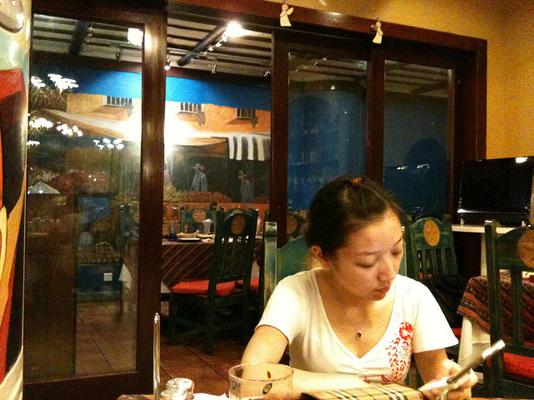person: (242, 178, 480, 400)
